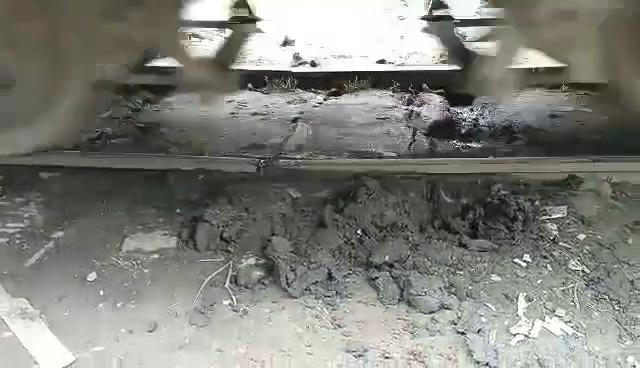railway-gap: (225, 131, 293, 194)
